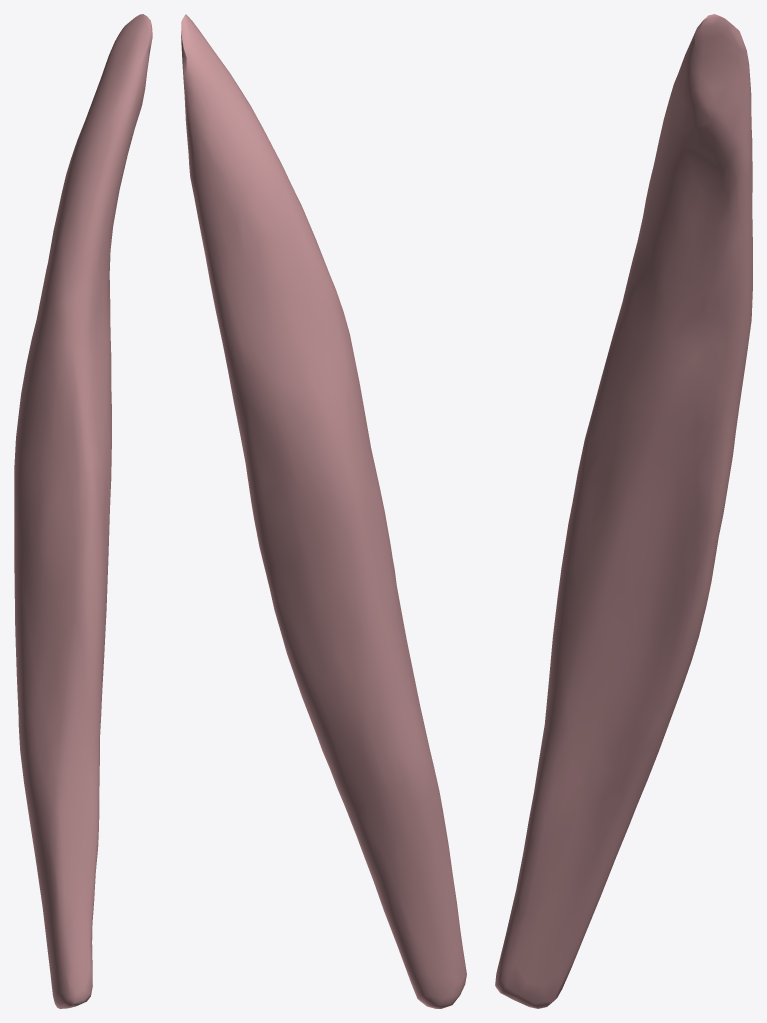
The model's file is fma297622_mm1865.glb.
The picture shows the model from 3 angles, left to right: view 1: azimuth 30°, elevation 25°; view 2: azimuth 150°, elevation 25°; view 3: azimuth 270°, elevation 25°; orthographic projection. The views are drawn at different scales.
Visible parts, largest first — view 1: FMA297622_MM1865; view 2: FMA297622_MM1865; view 3: FMA297622_MM1865.
Part boxes in pixels (box(x1,y1,x2,y2)): FMA297622_MM1865: box(14, 14, 152, 1008); FMA297622_MM1865: box(181, 14, 466, 1008); FMA297622_MM1865: box(495, 14, 752, 1008).
Bounding box in the file's own units: 0.0323 × 0.1636 × 0.0353.
